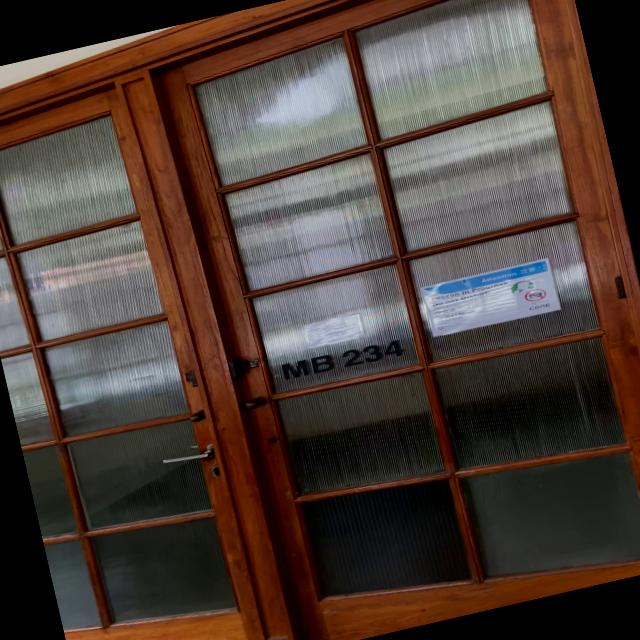room234Window: (276, 328, 420, 389)
